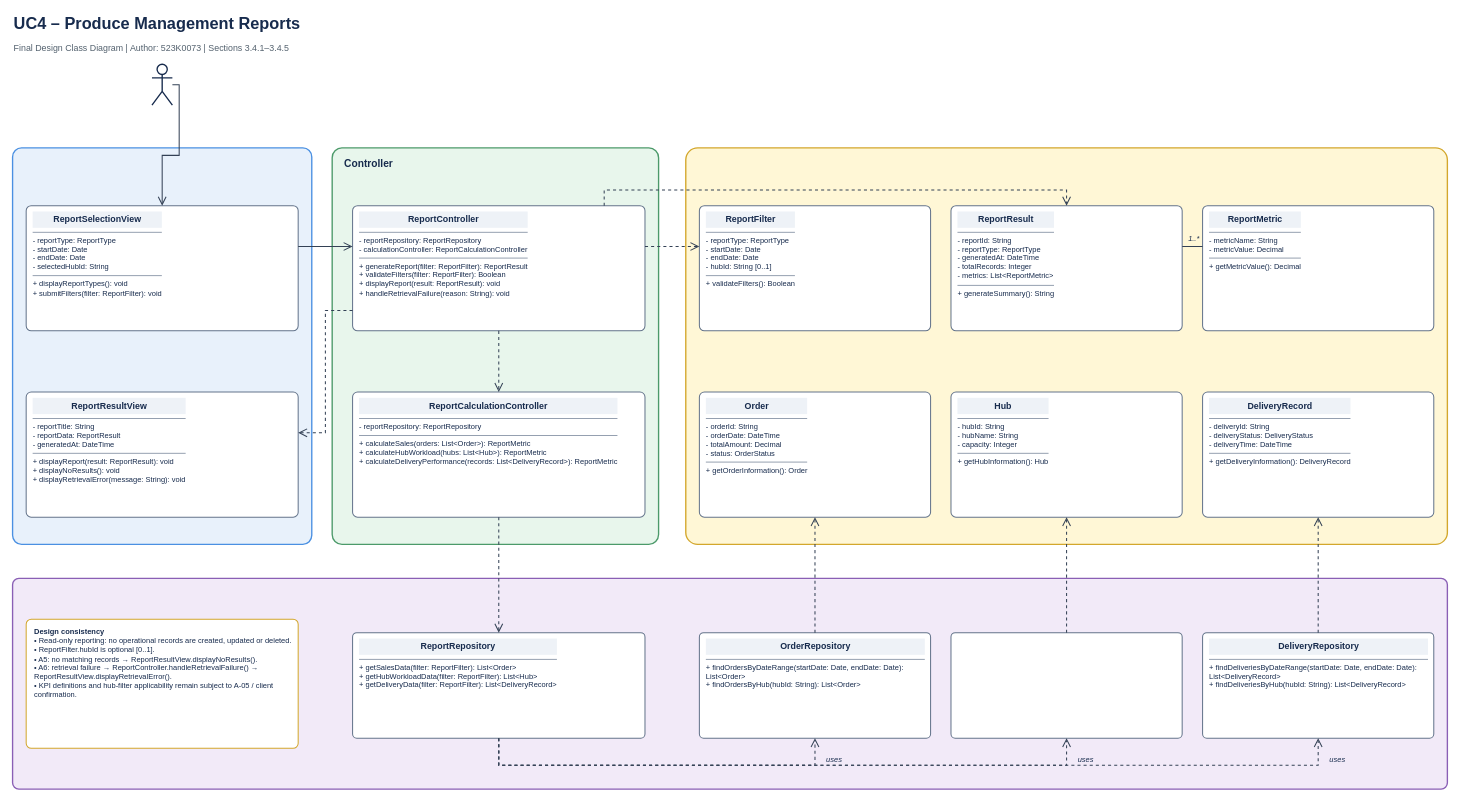
The diagram is 1459 pixels wide and 801 high, and some of its shapes have lost their labels. The shapes that lost their labels are listed below. From the top down, each one's box as (x1, y1, x2, y2) in pixels, then its label:
(151, 63, 173, 105): Manager
(12, 147, 312, 545): User Interface (View)
(685, 147, 1448, 545): Domain
(12, 577, 1448, 789): Data Access
(950, 632, 1182, 738): HubRepository + findHubById(hubId: String): Hub + findAllHubs(): List<Hub>
